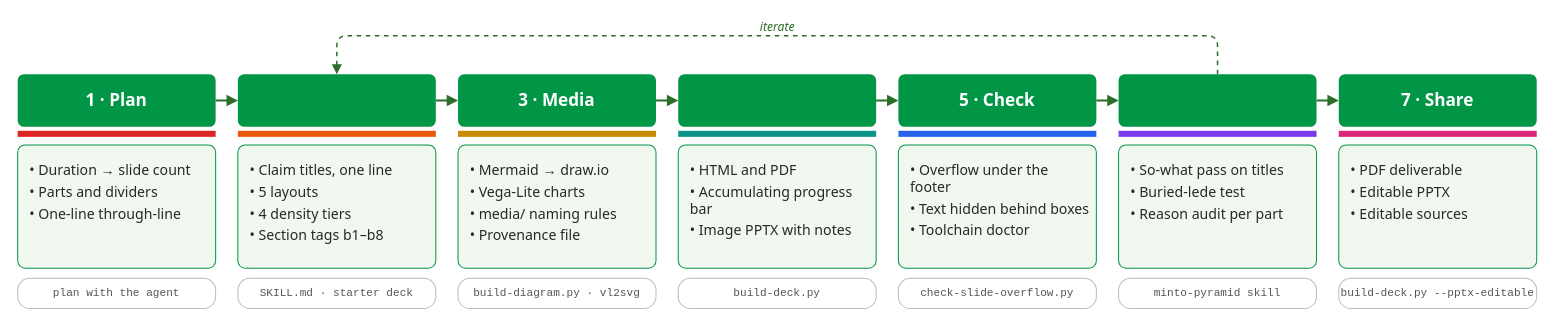
This 1554x326 diagram has some shape labels left out. The shapes that lost their labels are listed below. From the top down, each one's centre as x and y in pixels, then its label:
At point (336, 100): "2 · Draft".
At point (777, 100): "4 · Build".
At point (1217, 100): "6 · Review".
